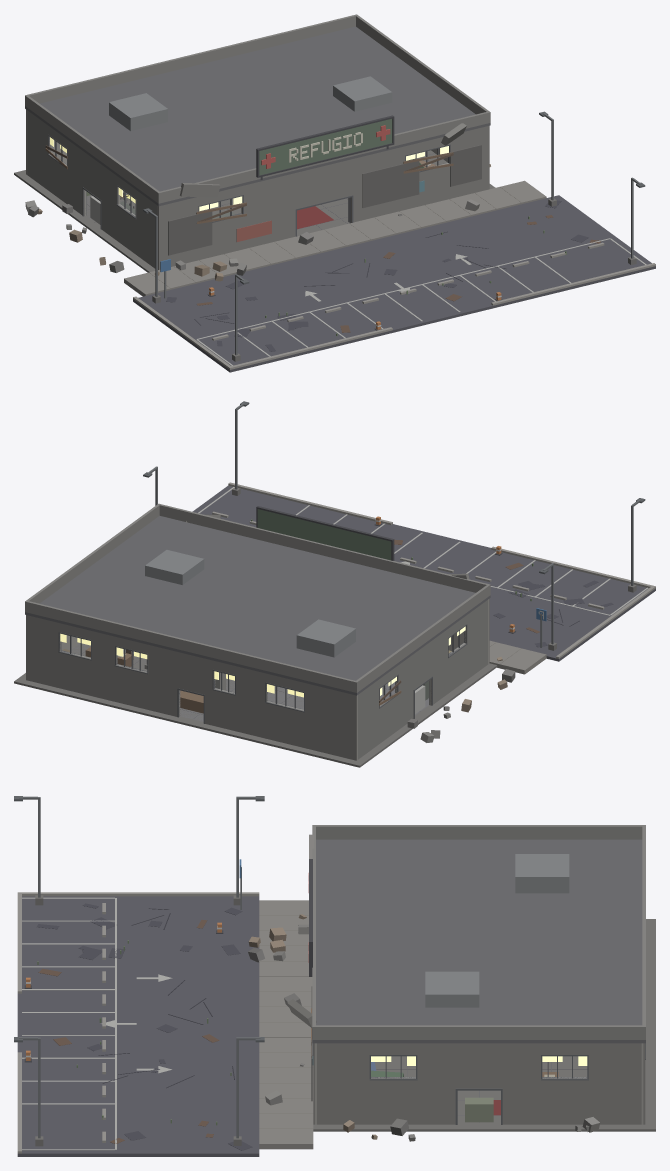
Rendered from predio_refugio.glb.
The picture shows the model from 3 angles, top to bottom: view 1: azimuth 30°, elevation 25°; view 2: azimuth 150°, elevation 25°; view 3: azimuth 270°, elevation 25°; orthographic projection. The views are drawn at different scales.
Visible parts, largest first — view 1: parking, roof, wall_south, walls_exterior, exterior_damage, sign, floor, decor_grim, furniture; view 2: roof, walls_exterior, parking, floor, sign, furniture, exterior_damage, glass; view 3: parking, roof, walls_exterior, floor, exterior_damage, furniture.
Part boxes in pixels (left/top/right/bottom): parking: left=124, top=111, right=655, bottom=372; roof: left=25, top=14, right=490, bottom=206; wall_south: left=157, top=125, right=489, bottom=269; walls_exterior: left=26, top=109, right=447, bottom=268; exterior_damage: left=25, top=123, right=490, bottom=281; sign: left=256, top=115, right=394, bottom=179; floor: left=14, top=150, right=495, bottom=272; decor_grim: left=45, top=145, right=453, bottom=229; furniture: left=86, top=159, right=435, bottom=224; roof: left=25, top=503, right=490, bottom=695; walls_exterior: left=26, top=600, right=488, bottom=760; parking: left=143, top=401, right=655, bottom=674; floor: left=14, top=643, right=497, bottom=767; sign: left=256, top=506, right=394, bottom=560; furniture: left=62, top=646, right=451, bottom=713; exterior_damage: left=186, top=514, right=515, bottom=742; glass: left=60, top=626, right=465, bottom=697; parking: left=14, top=796, right=313, bottom=1156; roof: left=312, top=825, right=645, bottom=1043; walls_exterior: left=317, top=1043, right=645, bottom=1124; floor: left=313, top=919, right=655, bottom=1131; exterior_damage: left=248, top=834, right=600, bottom=1141; furniture: left=371, top=1062, right=558, bottom=1122.
Bounding box in the file's own units: 34 × 7.77 × 35.6.
